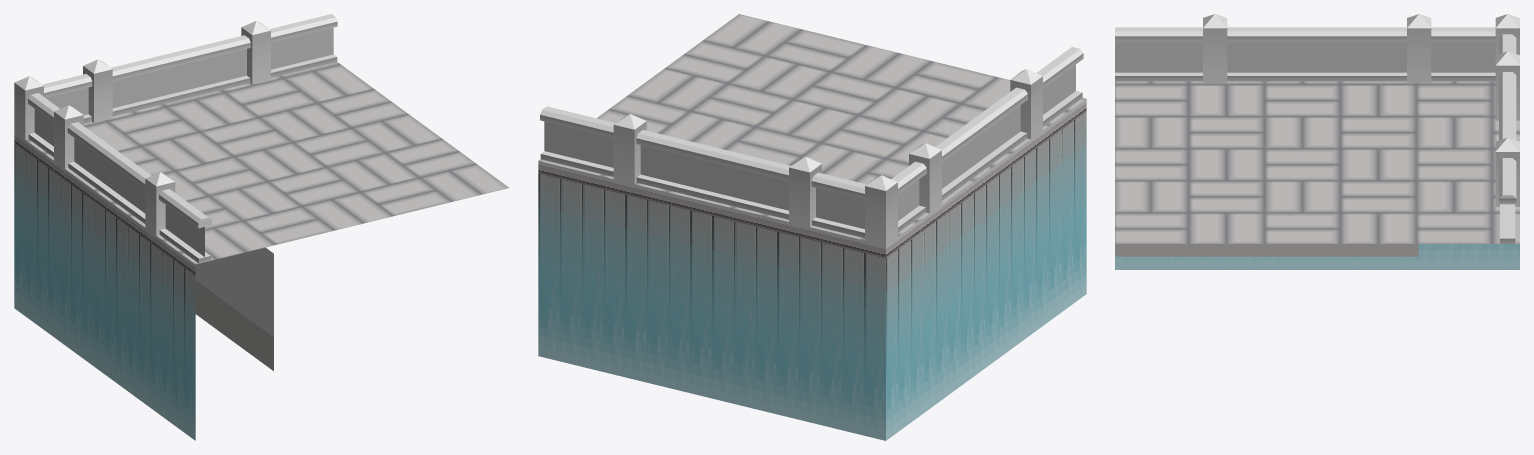
File: Seafront_Exterior_Corner.fbx
3 renders of one model, left to right at view 1: azimuth 30°, elevation 25°; view 2: azimuth 150°, elevation 25°; view 3: azimuth 270°, elevation 25°, orthographic. The views are drawn at different scales.
Parts seen in each view (by area): view 1: Seafront_Exterior_Corner; view 2: Seafront_Exterior_Corner; view 3: Seafront_Exterior_Corner.
Part boxes in pixels (x1,y1,x2,y2): Seafront_Exterior_Corner: [14, 14, 508, 440]; Seafront_Exterior_Corner: [538, 14, 1086, 440]; Seafront_Exterior_Corner: [1115, 14, 1519, 269].
Size of the model in its own units: 667 by 475 by 667.
